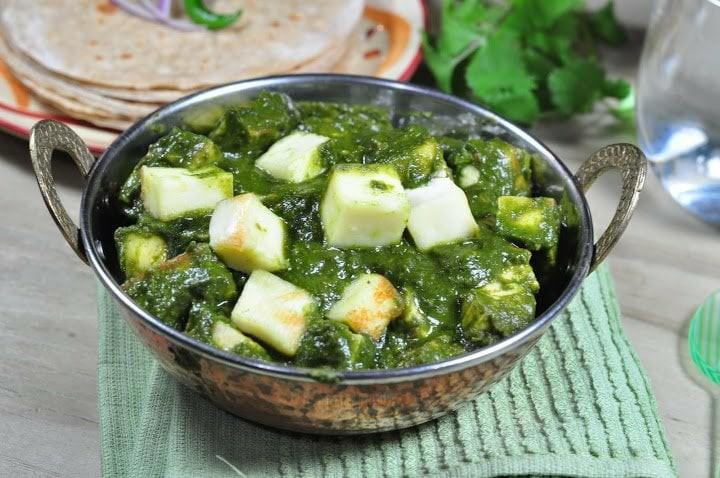PalakPaneer: (112, 88, 561, 378)
